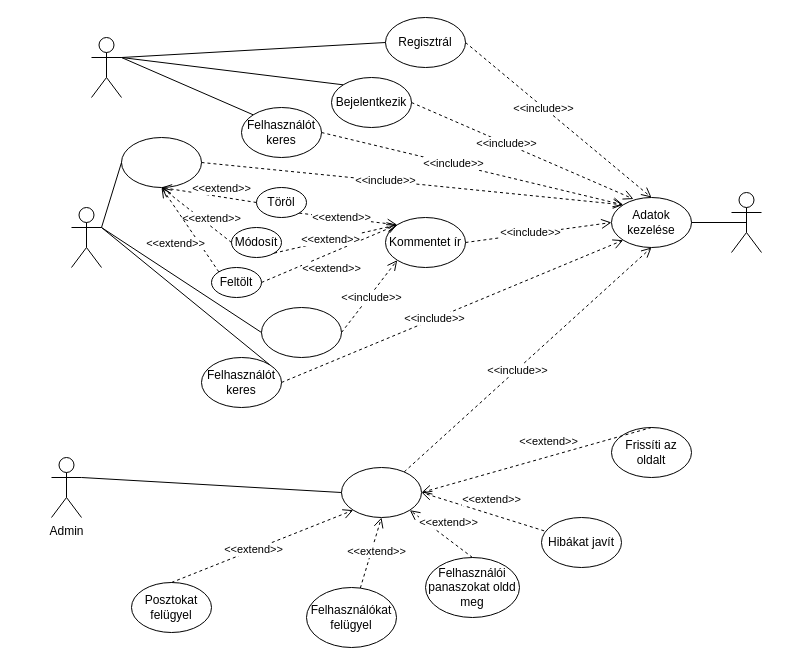
The diagram is 790 pixels wide and 665 high, and some of its shapes have lost their labels. Each missing label, with the centre of its shape:
Adatbázis: pixel 746 222
Bejelentkezett felhasználó: pixel 86 237
Idővonalat megtekint: pixel 301 332
Karbantartja az oldalt: pixel 381 492
Képet, videót megoszt: pixel 161 162
Vendég: pixel 106 67
